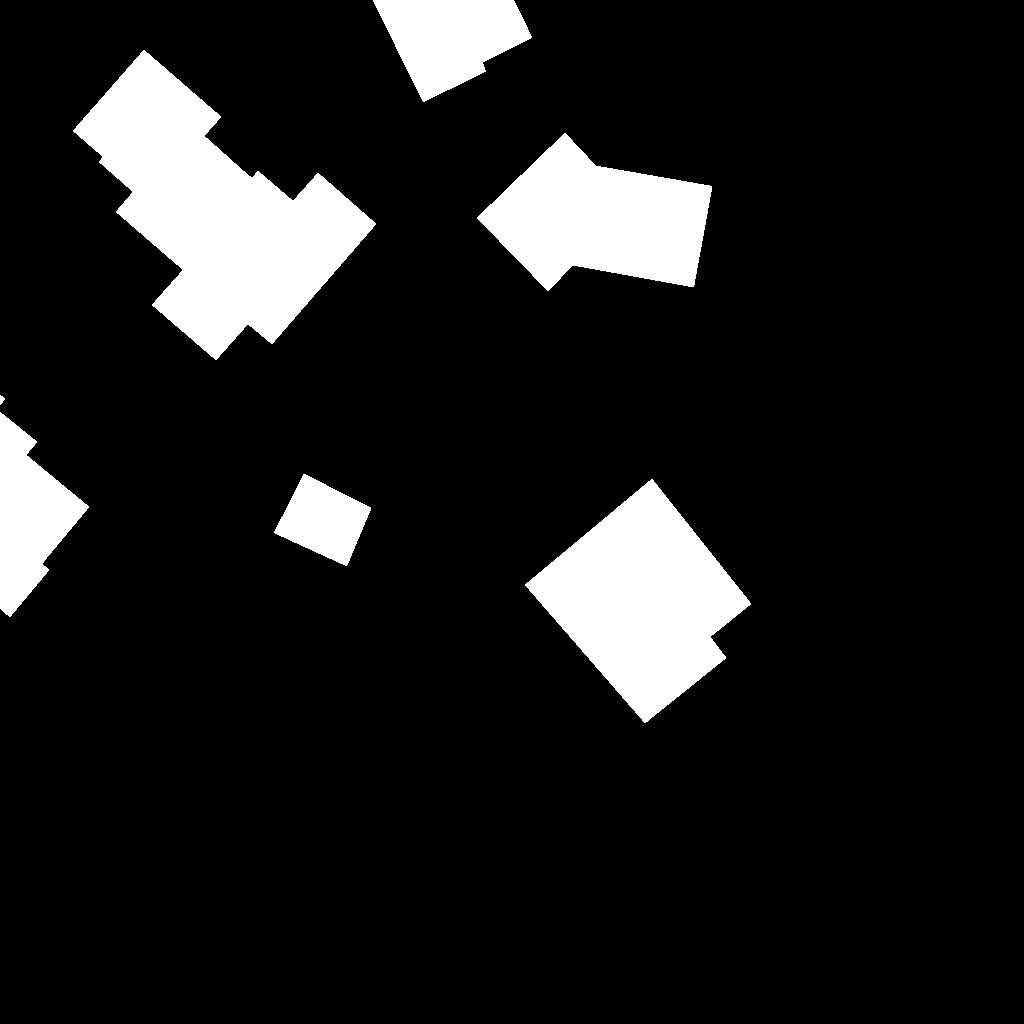building: (73, 50, 377, 361), (525, 479, 752, 724), (477, 133, 713, 292), (0, 395, 90, 618), (373, 0, 533, 103), (274, 474, 372, 567)
